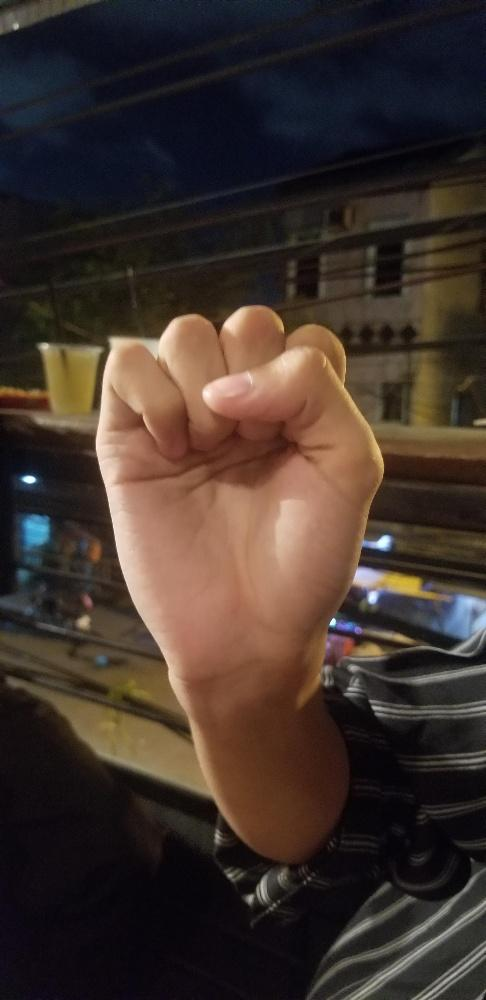s: (93, 305, 387, 631)
